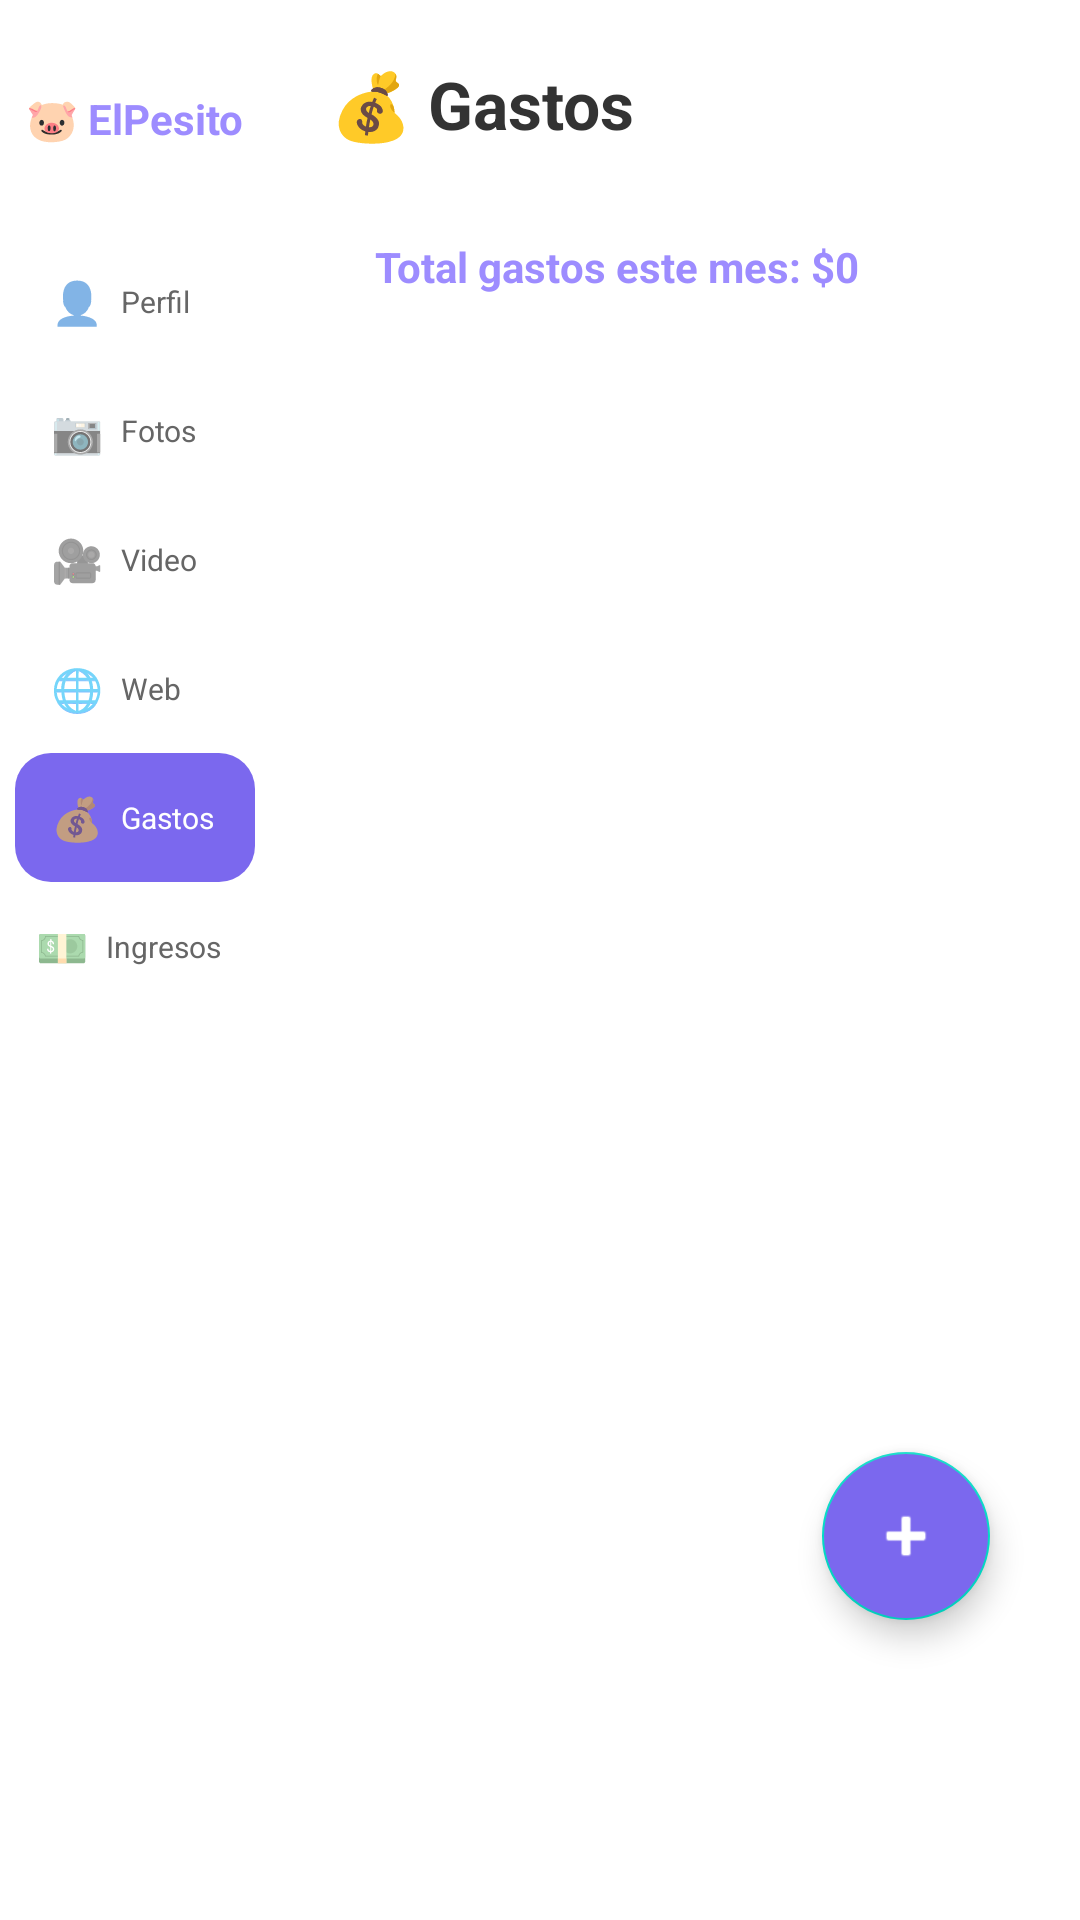

Icon click points for this 1080*1920 phone screenshot, format (x,y):
add: (906,1536)
